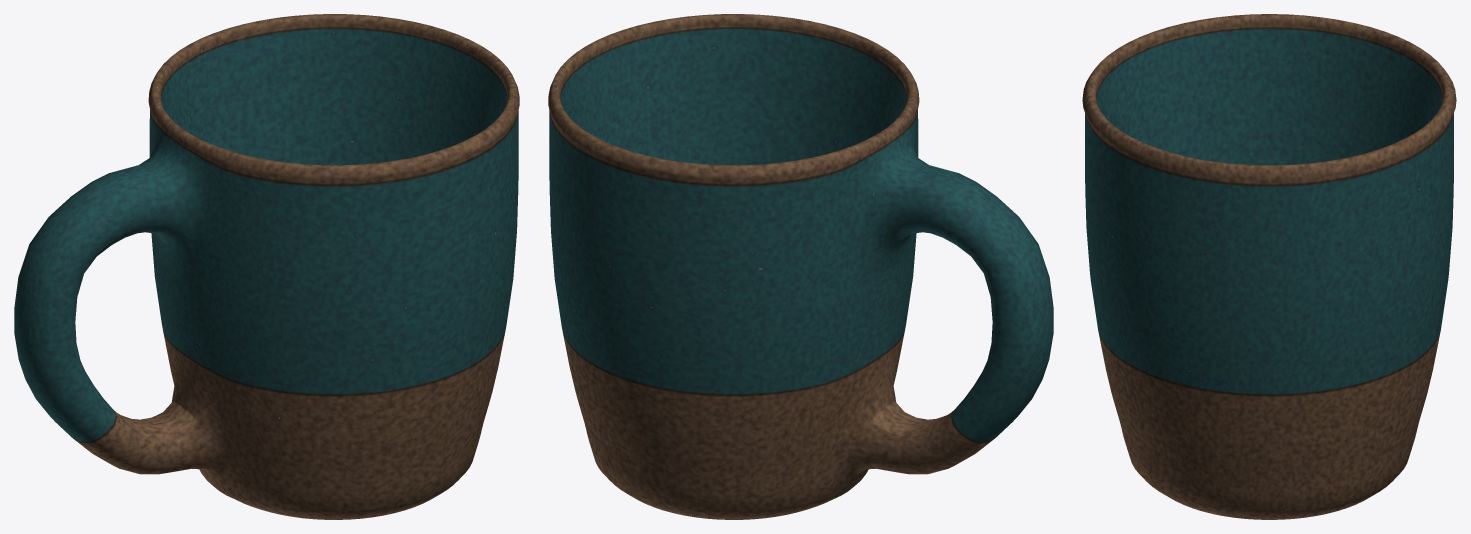
Rendered from mug_3.glb.
The picture shows the model from 3 angles, left to right: view 1: azimuth 30°, elevation 25°; view 2: azimuth 150°, elevation 25°; view 3: azimuth 270°, elevation 25°; orthographic projection.
Parts seen in each view (by area): view 1: Coffee Mug.001; view 2: Coffee Mug.001; view 3: Coffee Mug.001.
Boxes of the visible parts, bbox=[...] form: Coffee Mug.001: bbox=[14, 14, 519, 519]; Coffee Mug.001: bbox=[548, 14, 1053, 519]; Coffee Mug.001: bbox=[1082, 14, 1456, 519].
Size of the model in its own units: 0.1223 by 0.0953 by 0.0836.
1 material, 1 textured.
